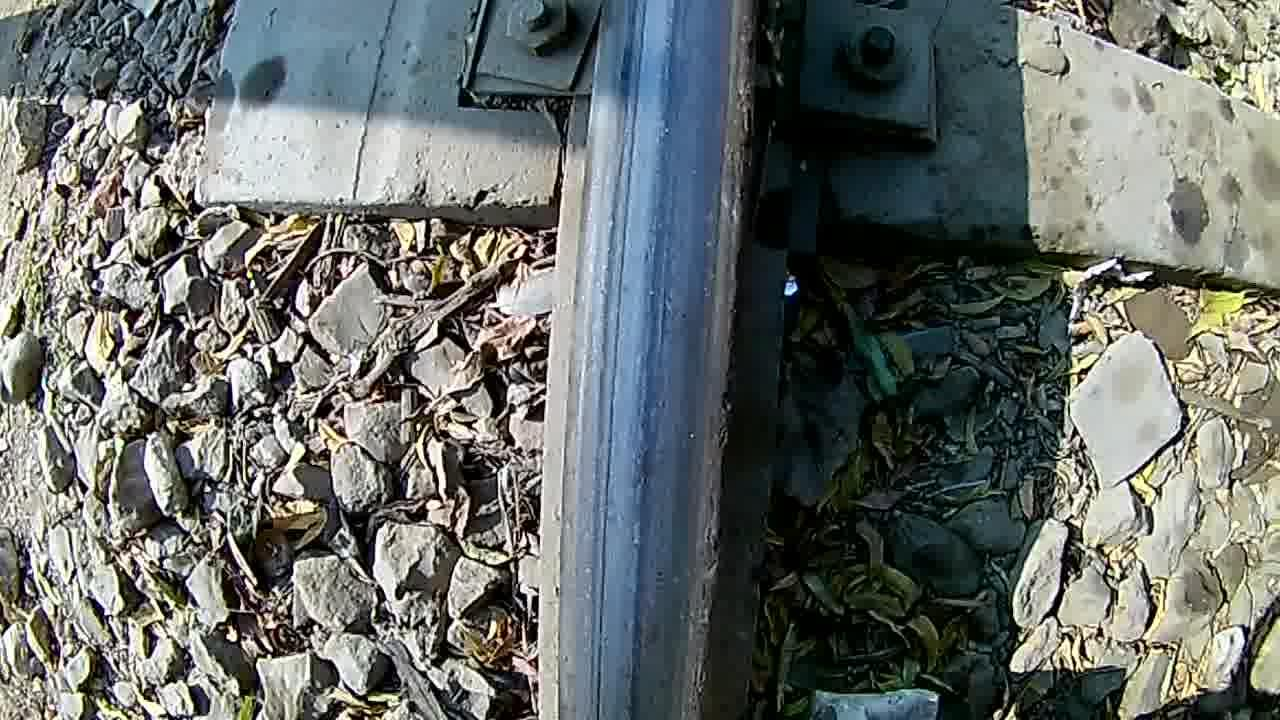clip_missing: (545, 0, 763, 720)
